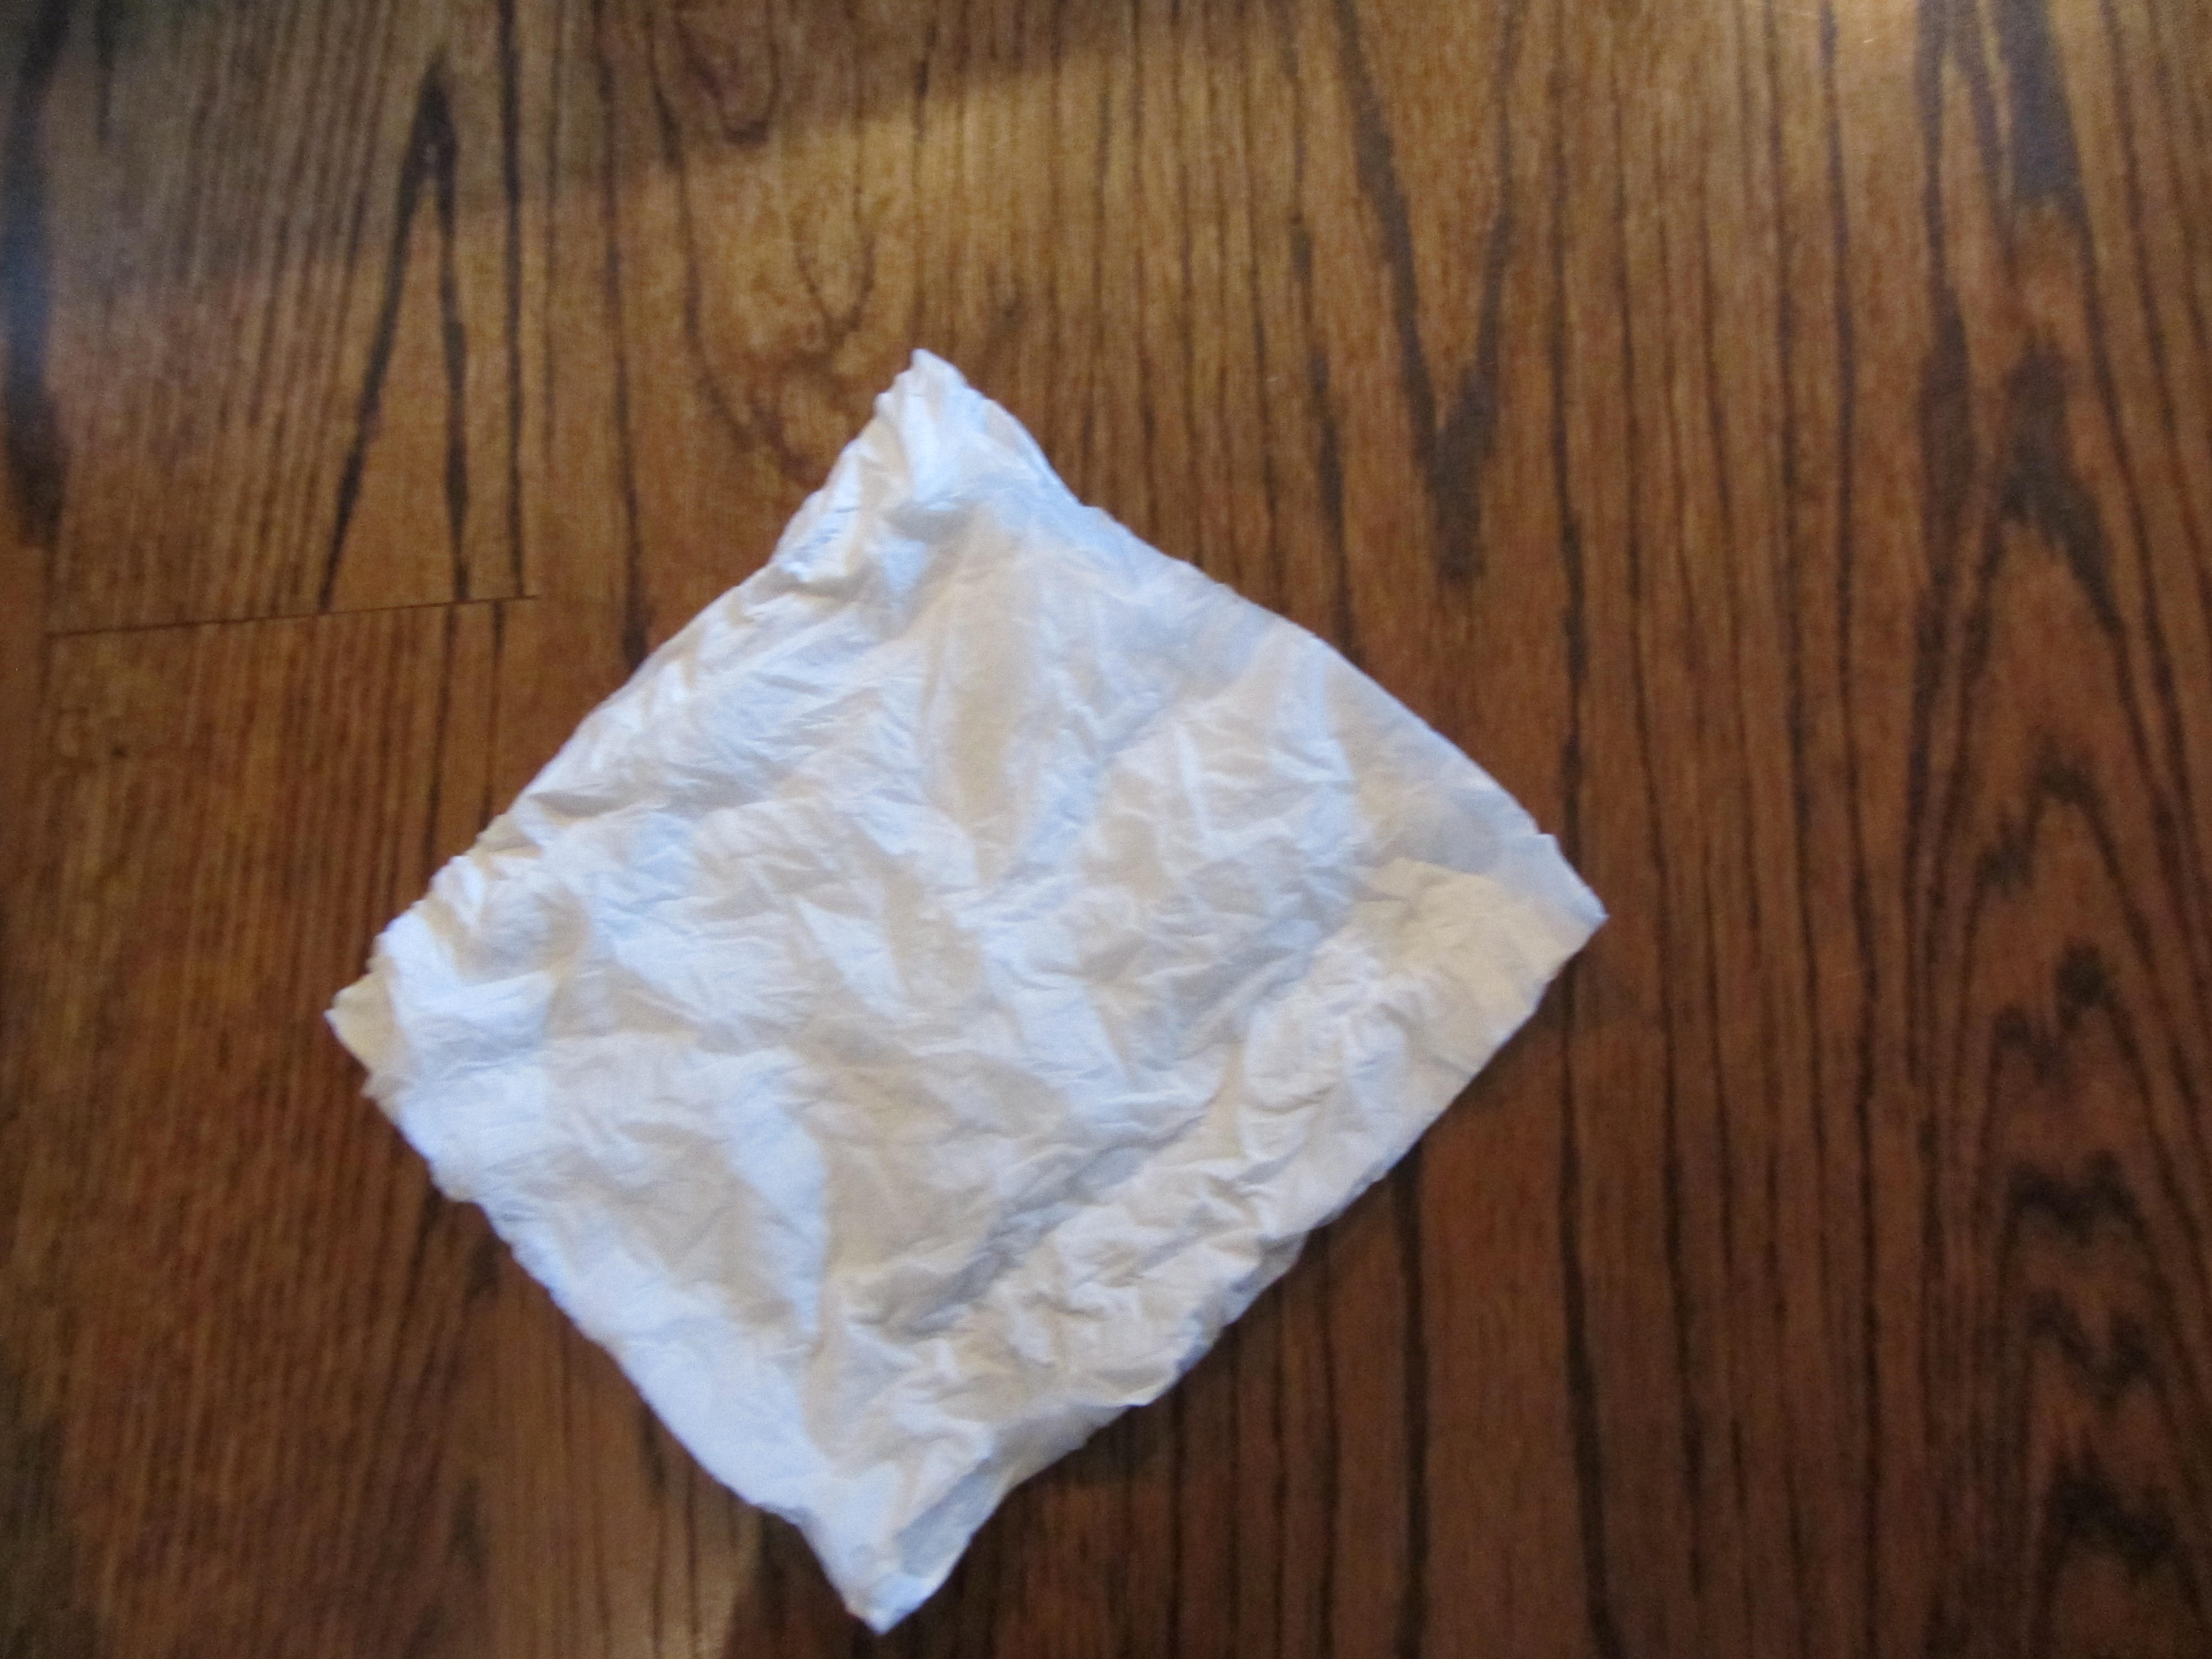tissue: (298, 354, 1623, 1636)
